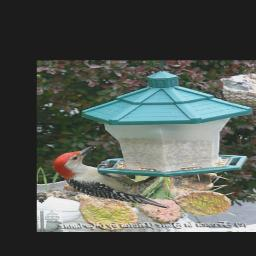Woodpecker: (52, 144, 170, 209)
